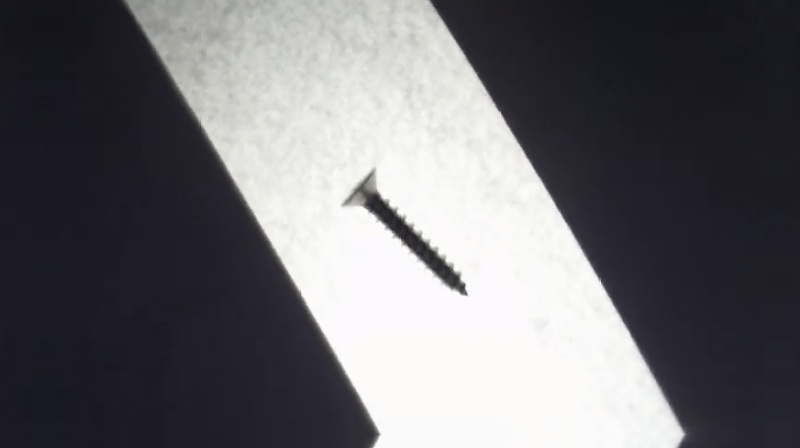S001: (337, 163, 469, 299)
